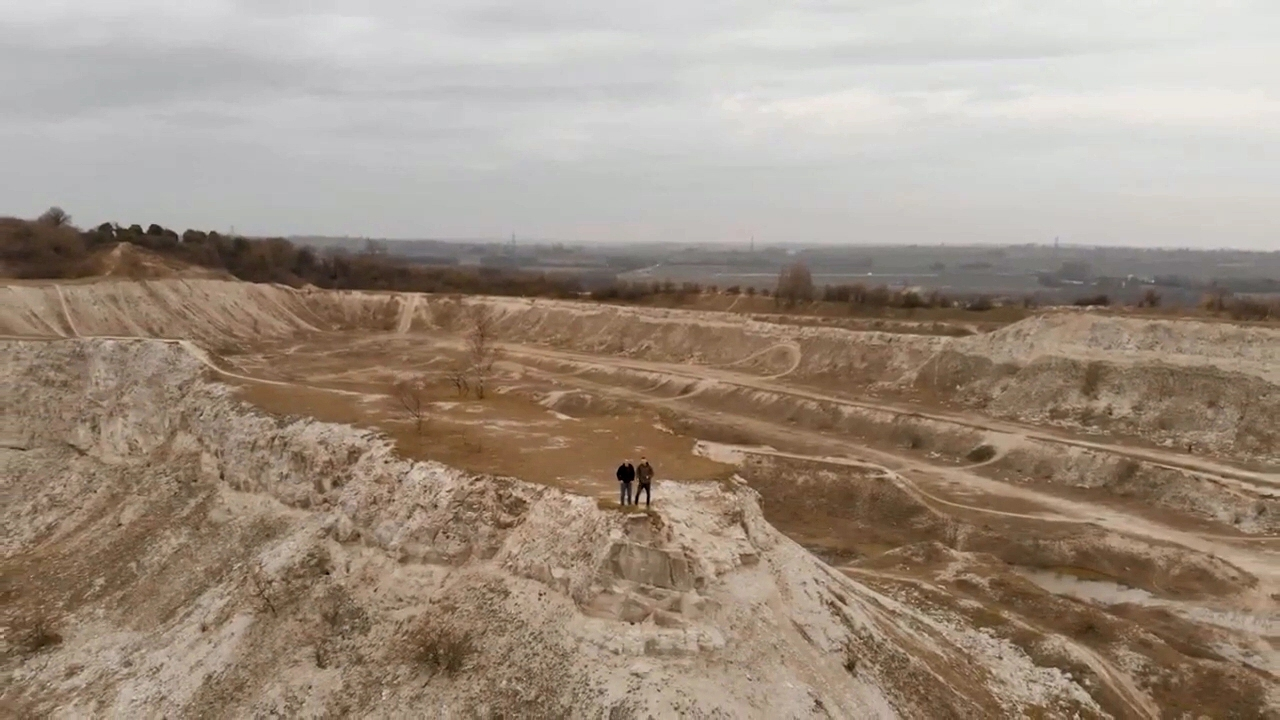insan: (615, 454, 638, 514), (633, 454, 652, 512)
